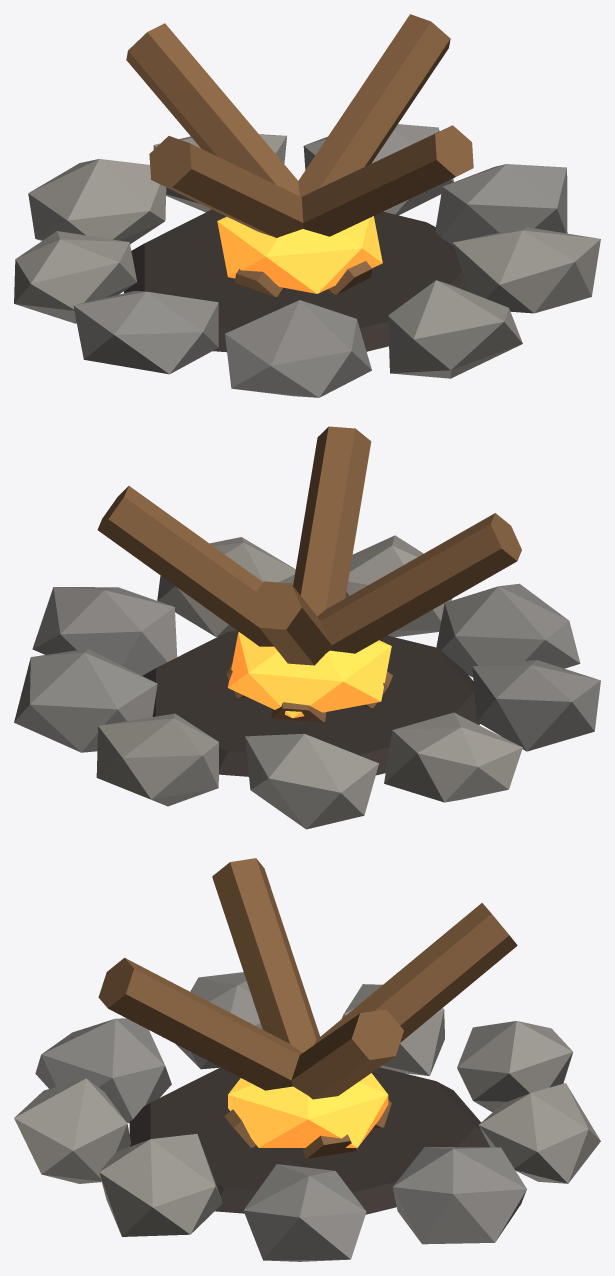
Rendered from campfire.glb.
The picture shows the model from 3 angles, top to bottom: view 1: azimuth 30°, elevation 25°; view 2: azimuth 150°, elevation 25°; view 3: azimuth 270°, elevation 25°; orthographic projection. The views are drawn at different scales.
Parts seen in each view (by area): view 1: campfire; view 2: campfire; view 3: campfire.
Part boxes in pixels (left/top/right/bottom): campfire: left=14, top=14, right=600, bottom=397; campfire: left=14, top=426, right=600, bottom=829; campfire: left=14, top=858, right=600, bottom=1261.
Bounding box in the file's own units: 1.08 × 0.4585 × 1.05.
